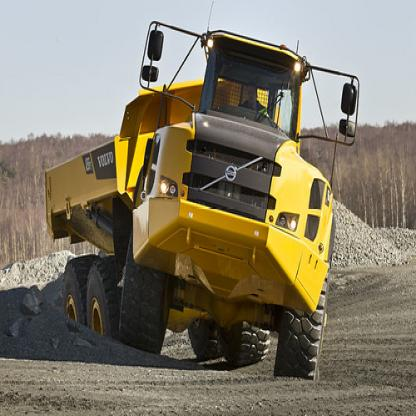dump_truck: (27, 15, 338, 386)
